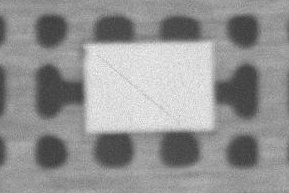DIE_CRACK: (145, 37, 267, 81)
